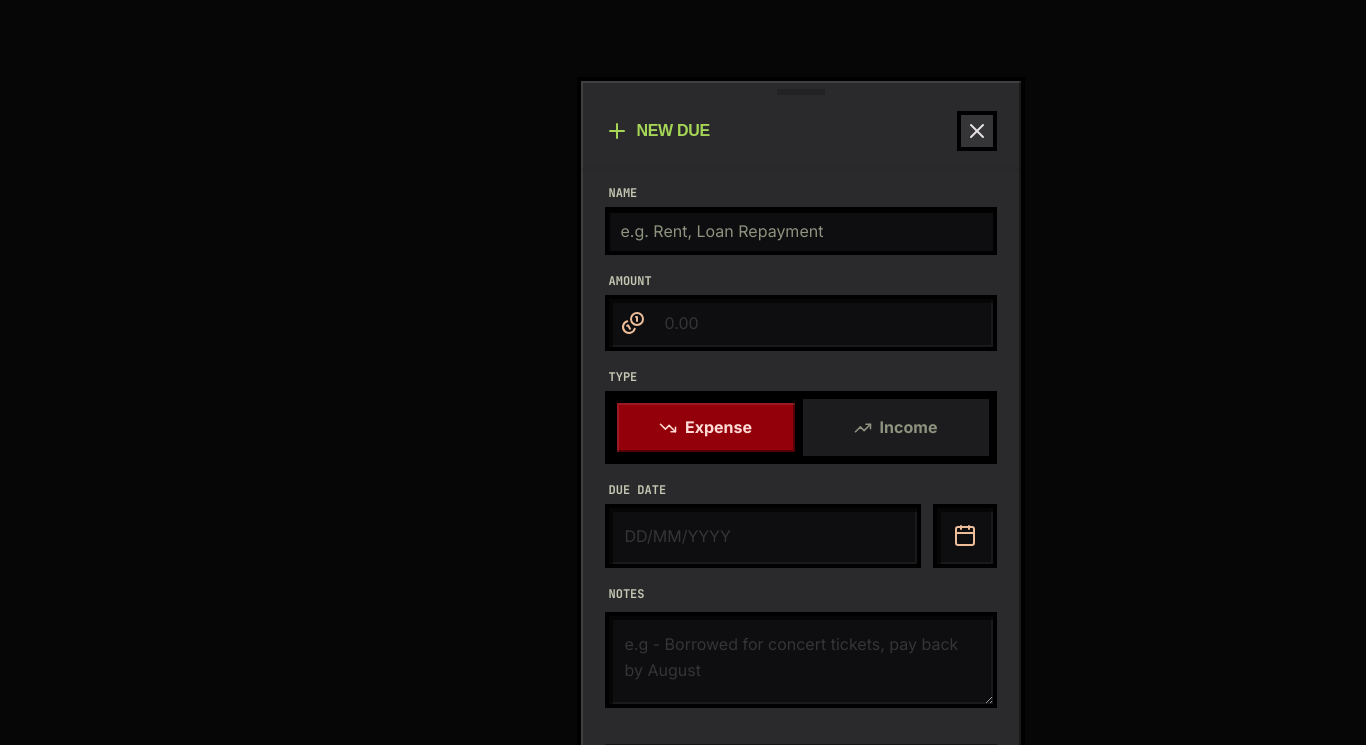
Scenario: AddDebtModal › enables save button only when name and amount are valid
Type name only
Type "Phone Bill" into the field with placeholder "e.g. Rent, Loan Repayment" at (800, 231), box [604, 207, 996, 255]
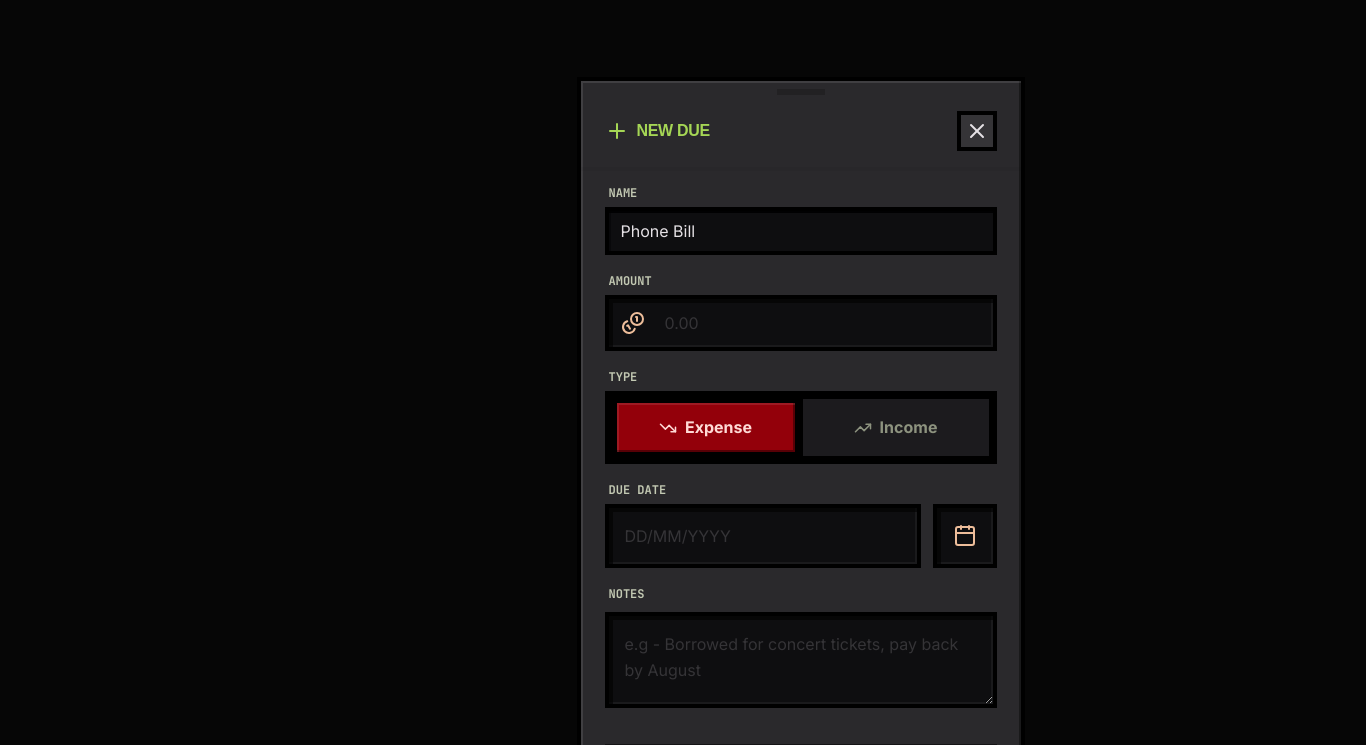
Type amount only
Clear the field with placeholder "e.g. Rent, Loan Repayment" at (800, 231), box [604, 207, 996, 255]
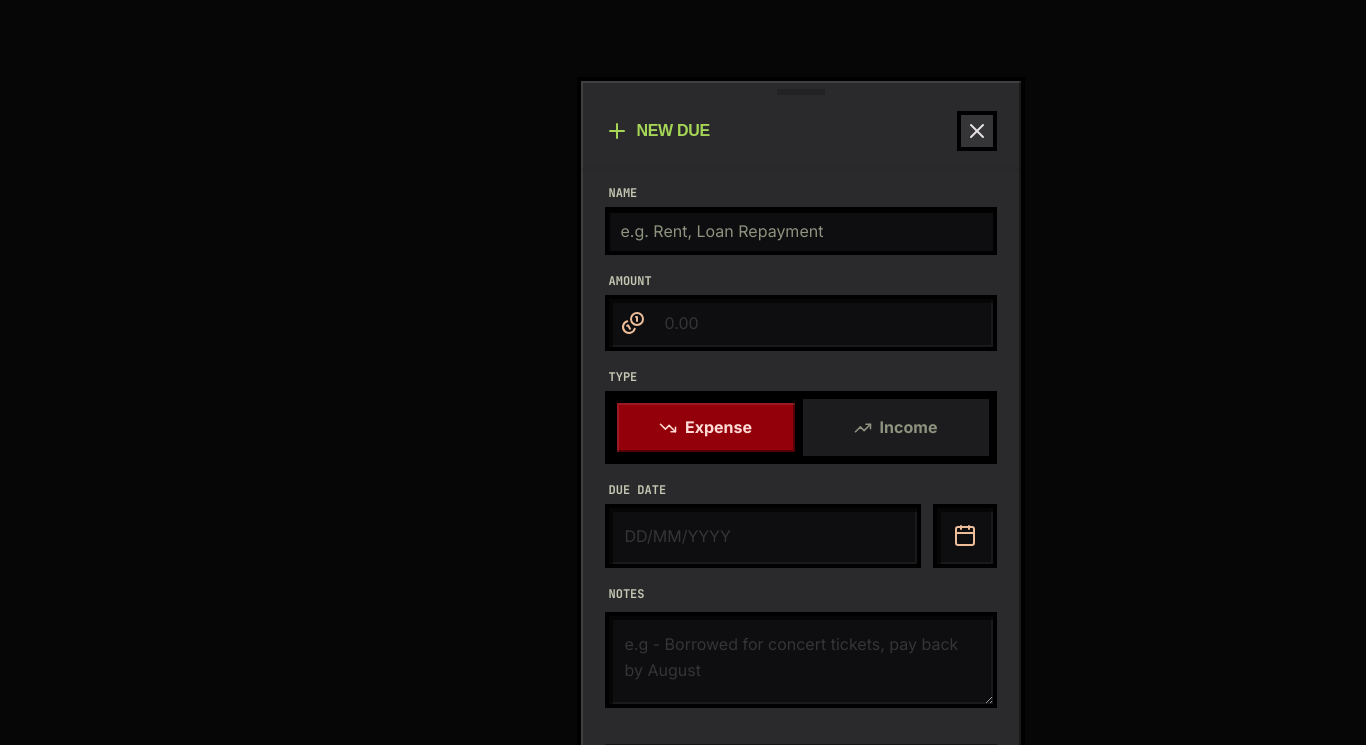
Type "50" into the number field with placeholder "0.00" at (800, 323), box [604, 295, 996, 351]
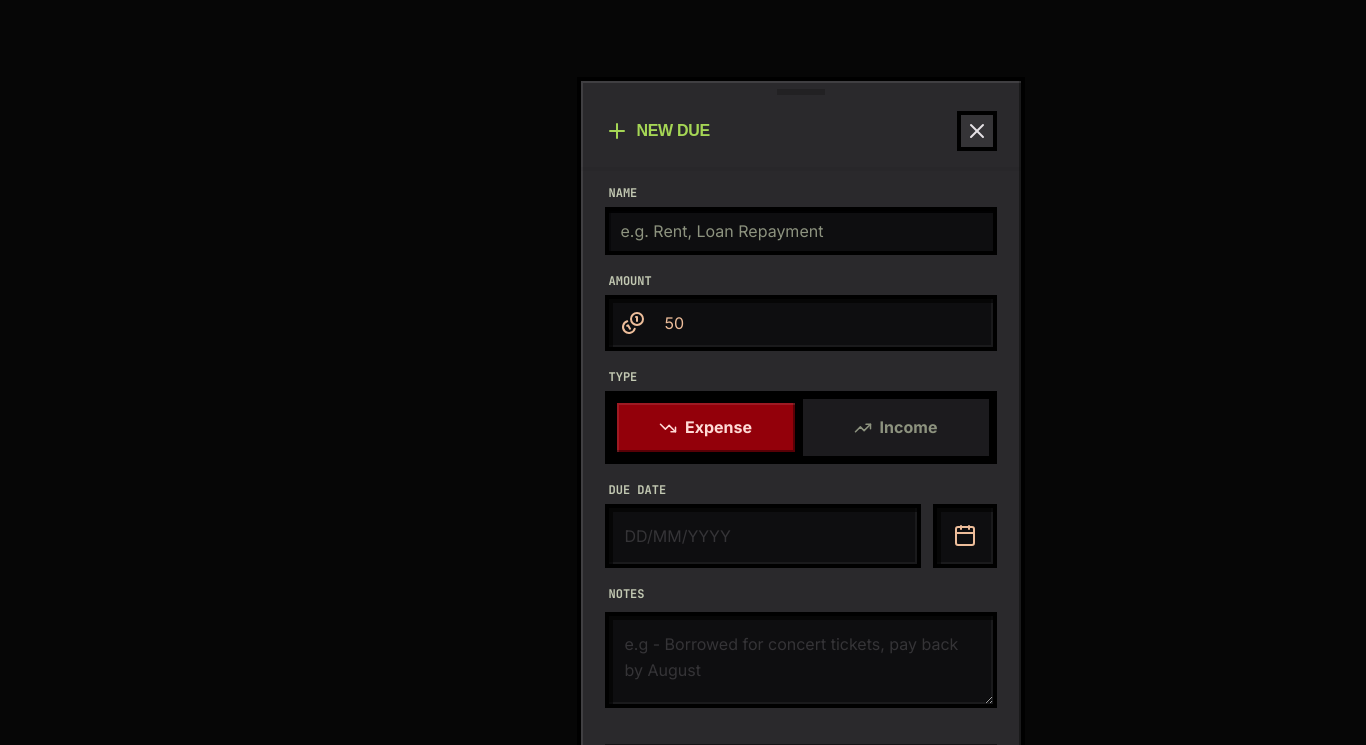
Type both
Type "Phone Bill" into the field with placeholder "e.g. Rent, Loan Repayment" at (800, 231), box [604, 207, 996, 255]
(page scrolled)
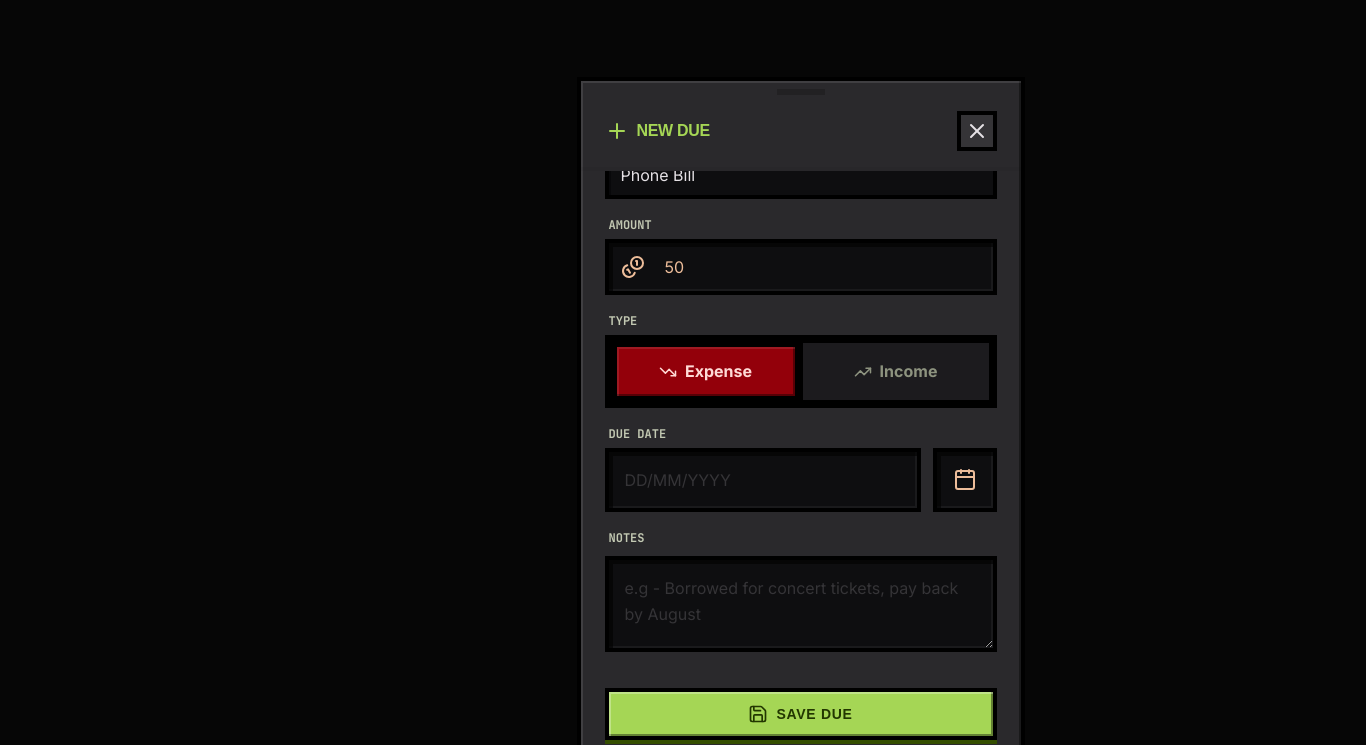
Result: the button "Save Due" is enabled at [604, 688, 996, 740]
